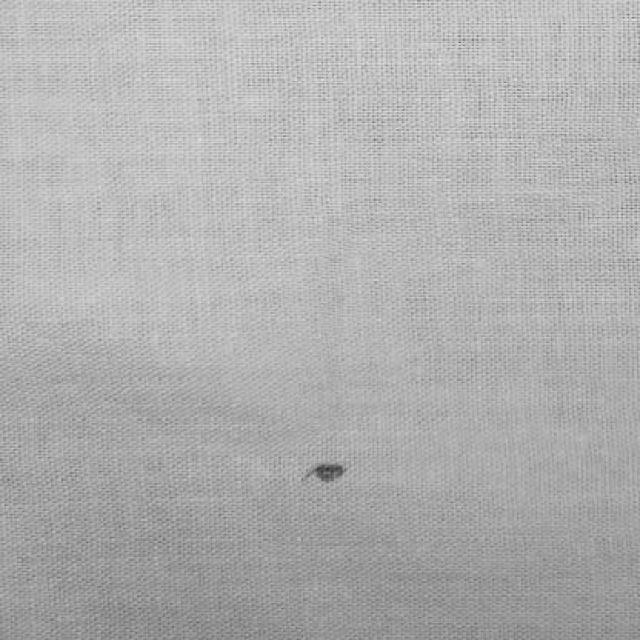Thread_other: (232, 404, 422, 556)
